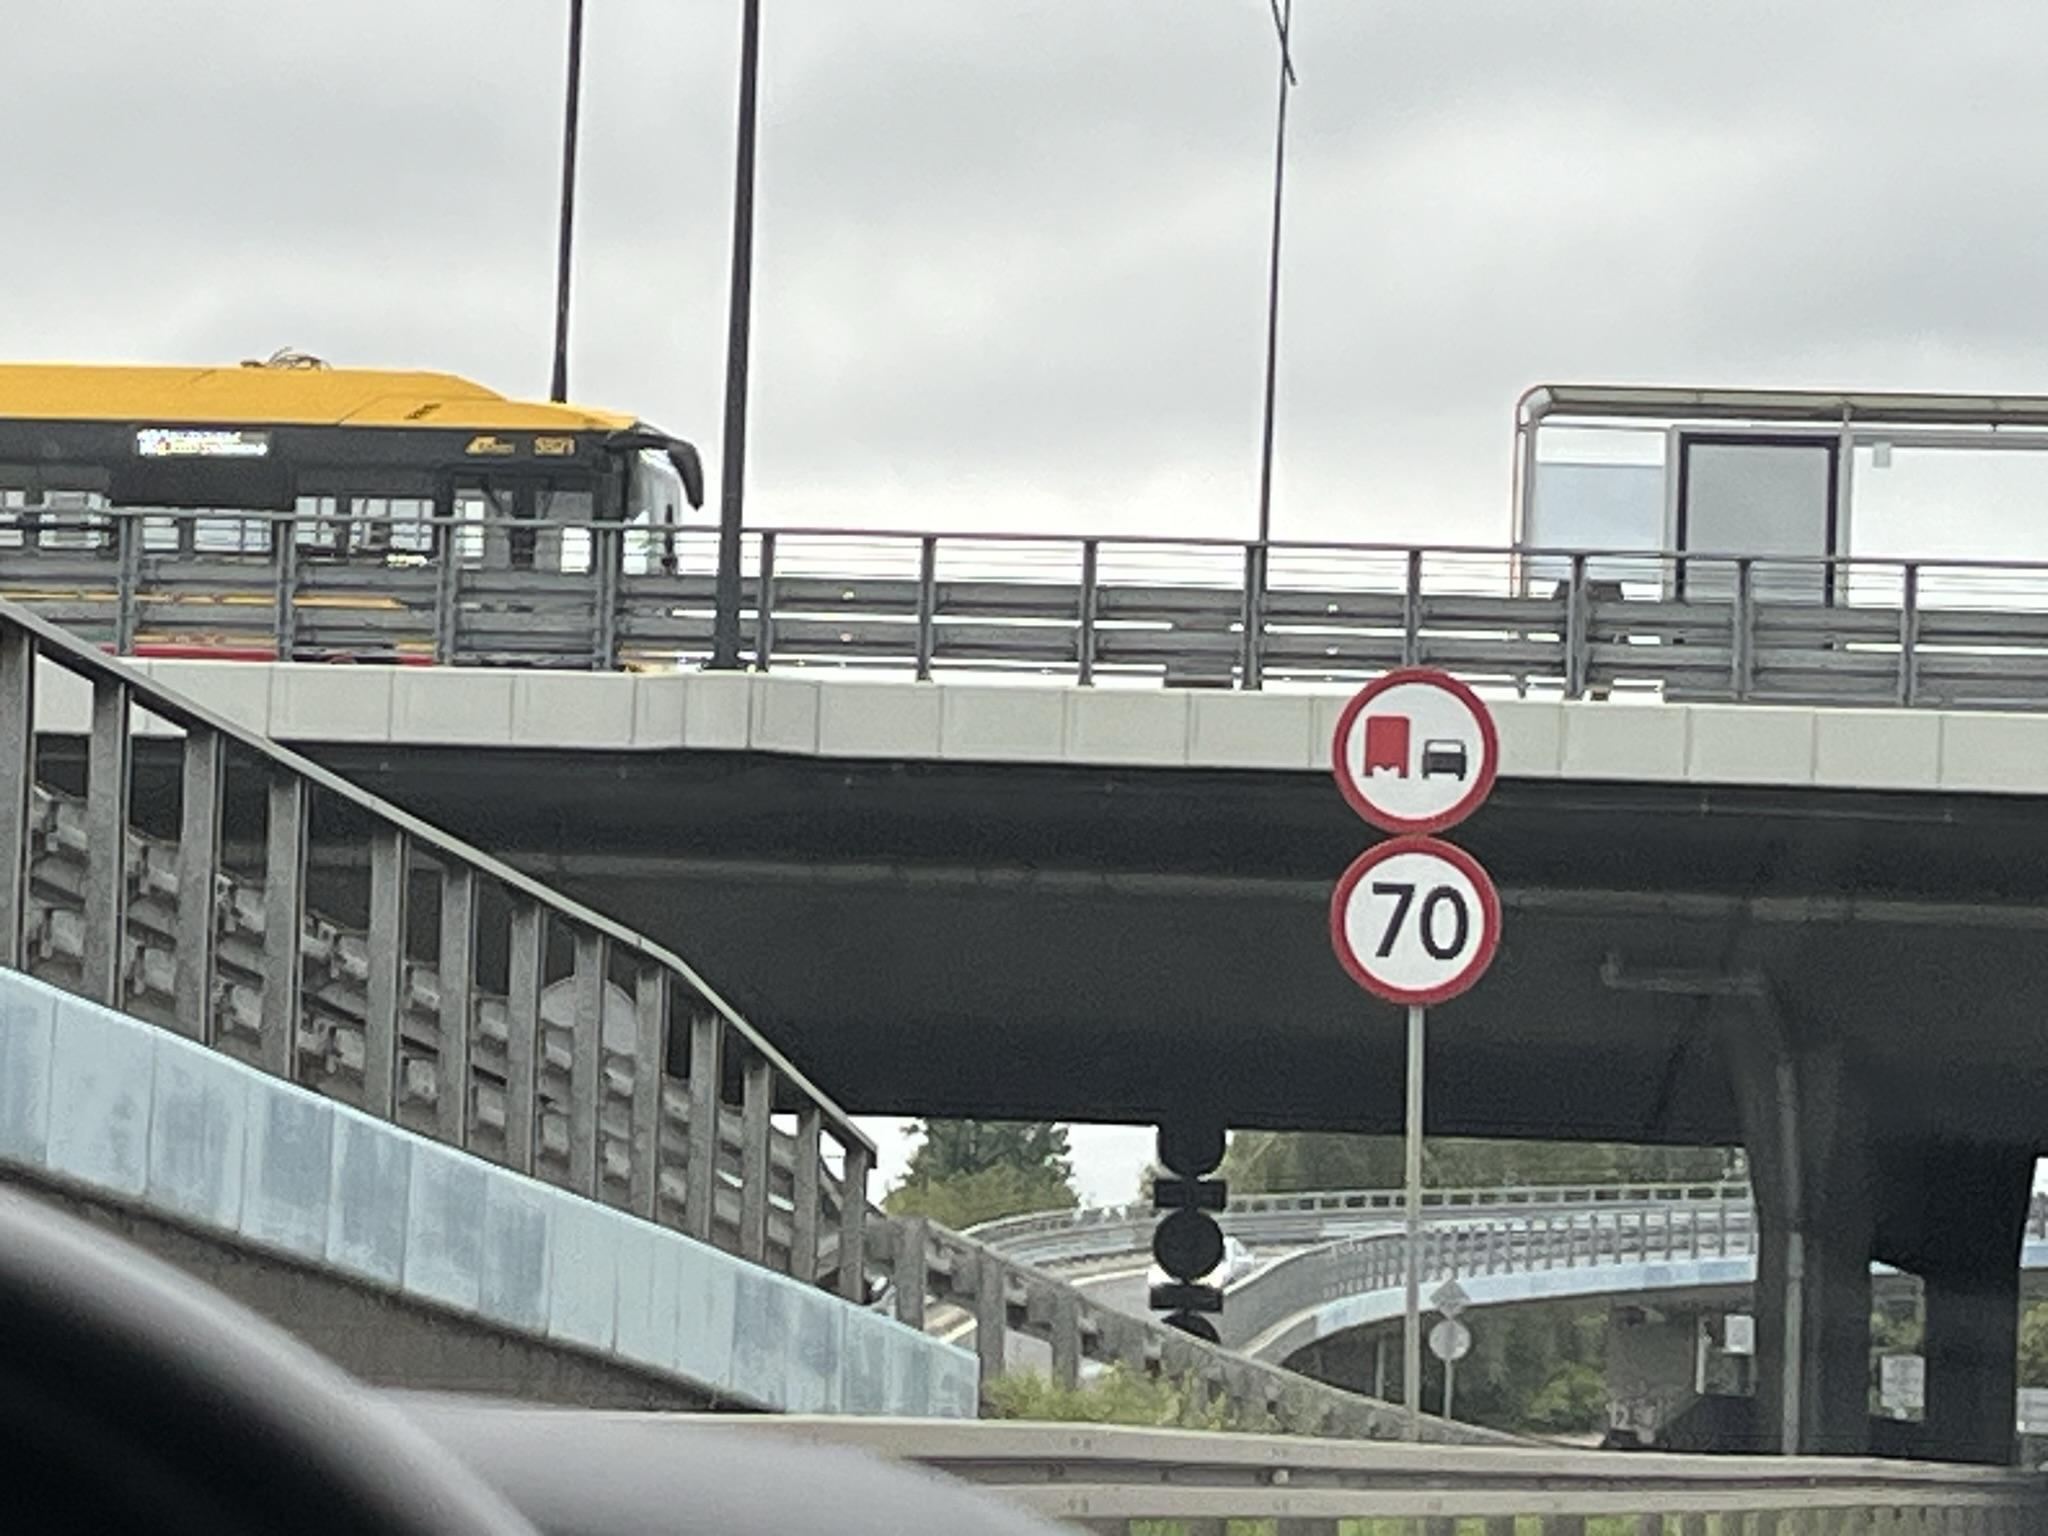prohibitory: (1329, 836, 1508, 1008), (1330, 662, 1500, 837)
